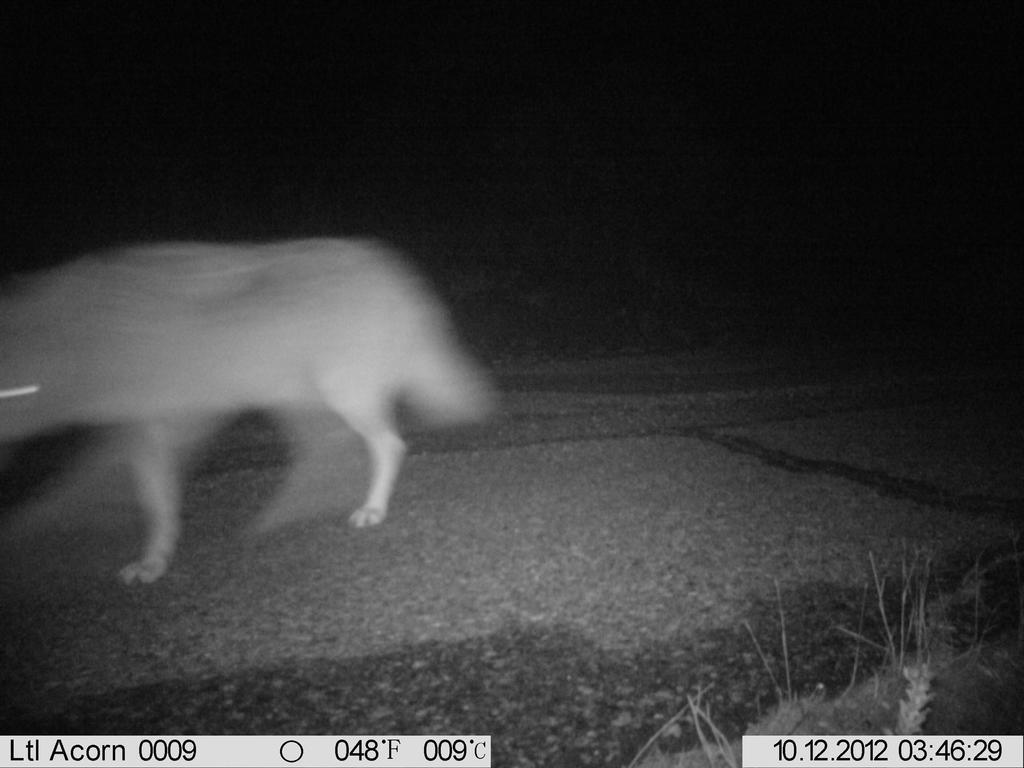coyote: (11, 241, 463, 545)
